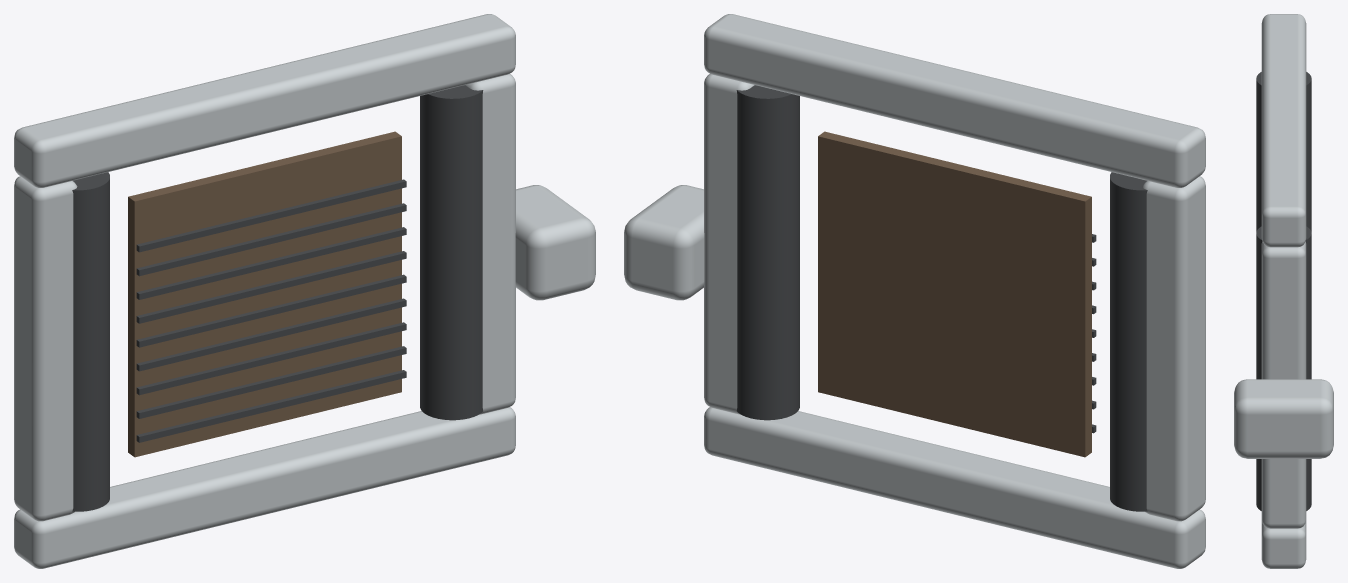
The model's file is camera-repair-and-darkroom-laboratory-shutter-curtain--6c9bd0f0__31773.glb.
3 renders of one model, left to right at view 1: azimuth 30°, elevation 25°; view 2: azimuth 150°, elevation 25°; view 3: azimuth 270°, elevation 25°, orthographic. The views are drawn at different scales.
Parts seen in each view (by area): view 1: shutter-curtain-service-frame; view 2: shutter-curtain-service-frame; view 3: shutter-curtain-service-frame.
Part boxes in pixels (x1,y1,x2,y2): shutter-curtain-service-frame: (14, 14, 595, 568); shutter-curtain-service-frame: (624, 14, 1205, 568); shutter-curtain-service-frame: (1234, 14, 1333, 568).
Size of the model in its own units: 0.0965 by 0.072 by 0.018.
